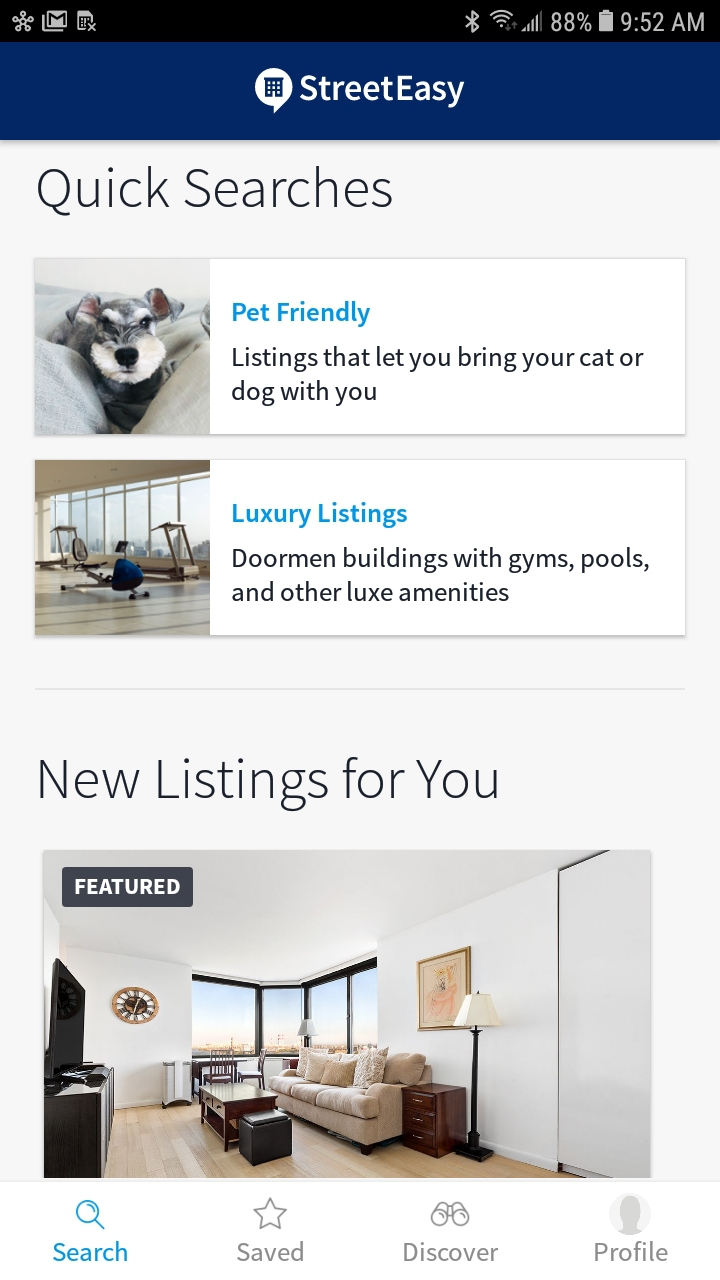Icon: (609, 1194, 651, 1236), (253, 1197, 288, 1230), (76, 1200, 106, 1230)
Image: (44, 851, 652, 1178), (35, 460, 211, 636), (35, 259, 210, 436), (255, 69, 293, 114), (430, 1200, 470, 1227)
Text: (232, 347, 645, 408), (40, 757, 498, 812), (232, 547, 649, 603), (38, 166, 392, 218), (300, 75, 465, 109), (232, 502, 408, 529), (232, 301, 371, 329), (404, 1241, 499, 1262), (54, 1241, 129, 1262), (594, 1241, 668, 1262), (238, 1240, 304, 1262)
TextButton: (63, 868, 194, 908)
UpperTaskBar: (1, 1, 720, 42)
